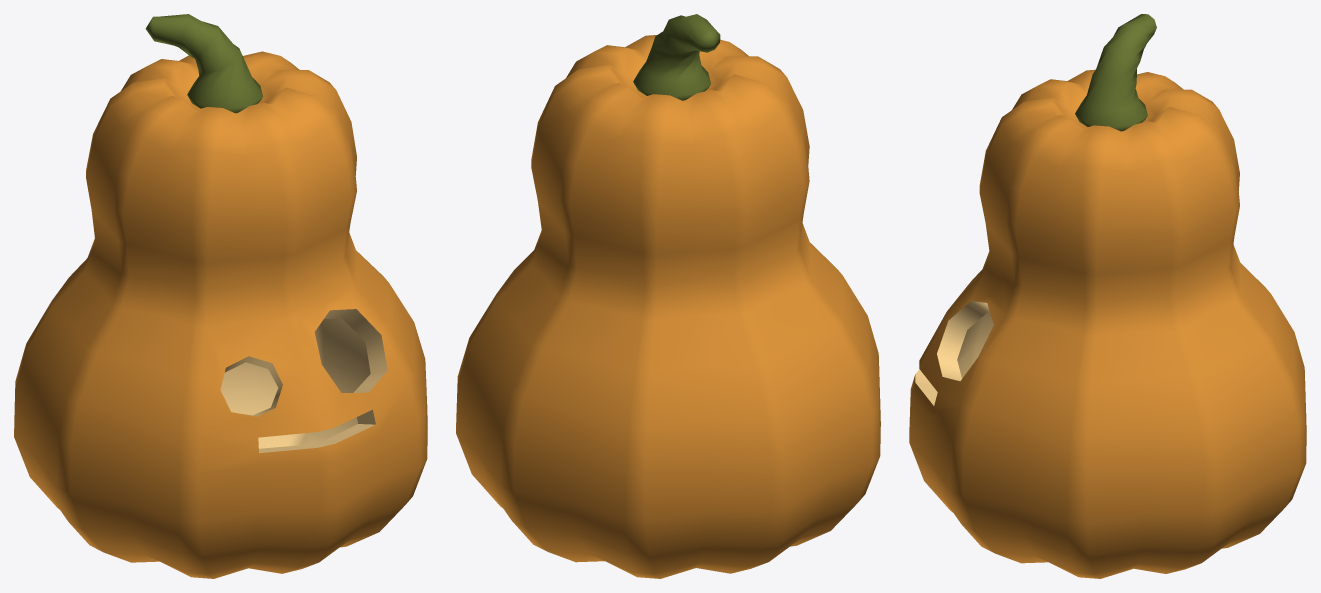
File: Pumpkin_Lantern_3.fbx
3 renders of one model, left to right at view 1: azimuth 30°, elevation 25°; view 2: azimuth 150°, elevation 25°; view 3: azimuth 270°, elevation 25°, orthographic. The views are drawn at different scales.
Parts seen in each view (by area): view 1: Pumpkin_Lantern_3; view 2: Pumpkin_Lantern_3; view 3: Pumpkin_Lantern_3.
Boxes of the visible parts, x1,y1,x2,y2 form: Pumpkin_Lantern_3: (14, 14, 427, 578); Pumpkin_Lantern_3: (456, 14, 880, 578); Pumpkin_Lantern_3: (909, 14, 1306, 578).
Bounding box in the file's own units: 18.07 × 24.33 × 17.82.
